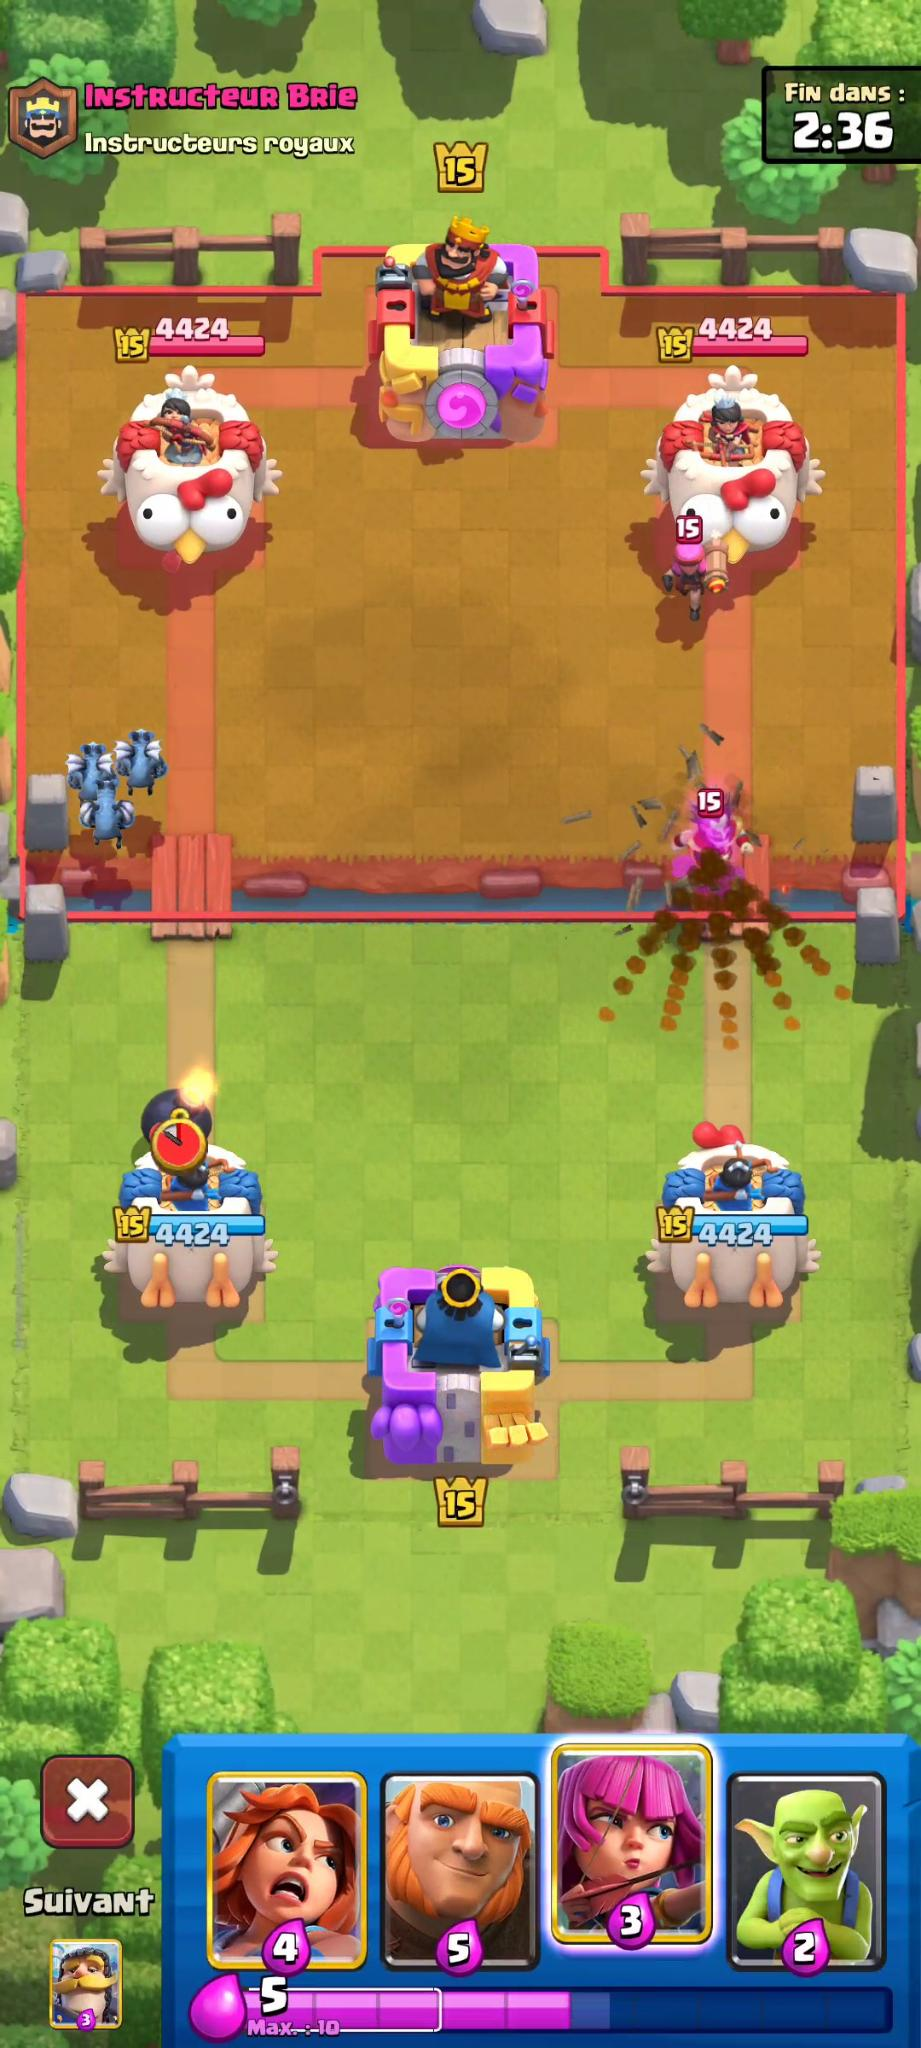gargouille: (77, 781, 144, 857), (114, 721, 175, 794), (59, 731, 125, 795)
